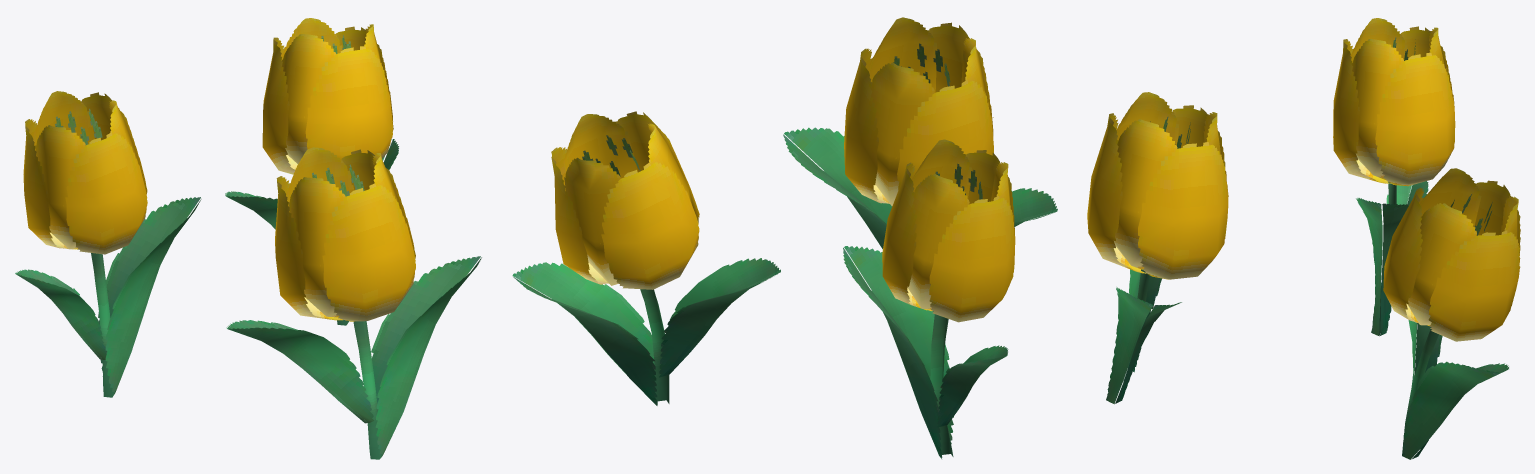
Rendered from yellow-tulips.glb.
The picture shows the model from 3 angles, left to right: view 1: azimuth 30°, elevation 25°; view 2: azimuth 150°, elevation 25°; view 3: azimuth 270°, elevation 25°; orthographic projection. The views are drawn at different scales.
Size of the model in its own units: 9.86 by 6.64 by 8.68.
Materials: 2 (2 with a texture image).
